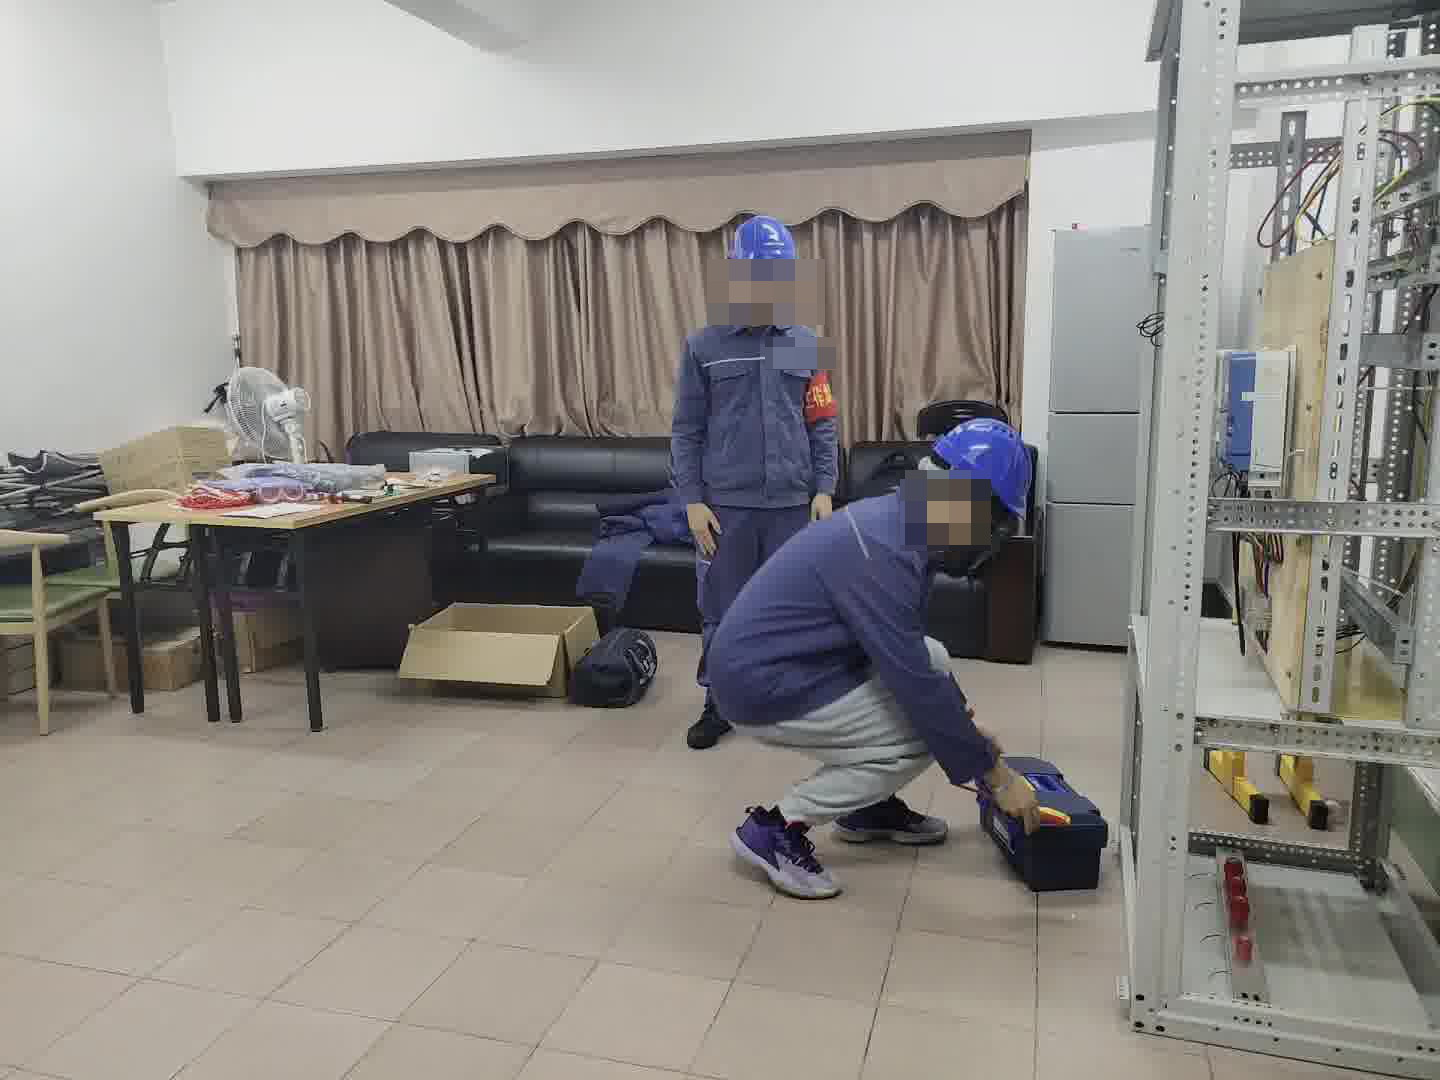badge: (801, 372, 838, 427)
downcloth: (744, 687, 942, 831)
halt: (924, 415, 1037, 551), (723, 213, 805, 318)
hand: (984, 764, 1045, 831), (689, 502, 719, 555), (810, 495, 836, 522)
noear: (931, 488, 990, 549)
person: (707, 401, 1060, 891), (626, 207, 844, 723)
upsuit: (709, 504, 937, 729), (670, 309, 842, 510)
